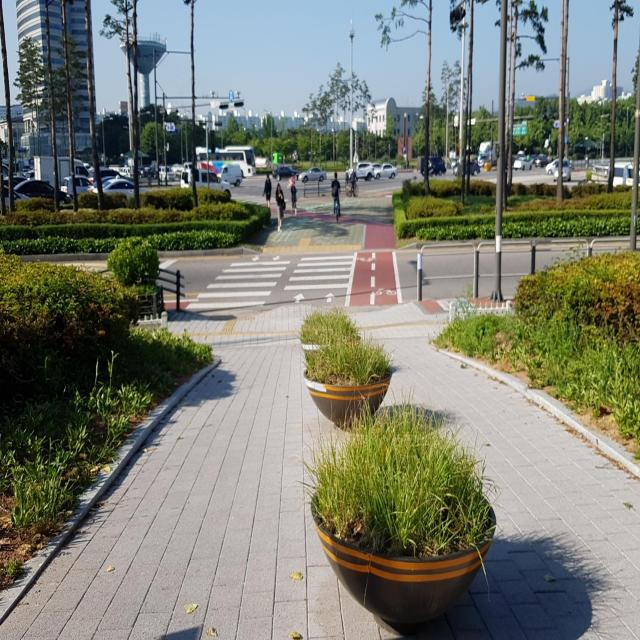횡단보도: (186, 256, 355, 308)
